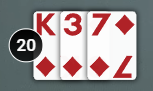3: (59, 11, 86, 38)
7: (85, 10, 113, 38)
k: (31, 10, 60, 38)
